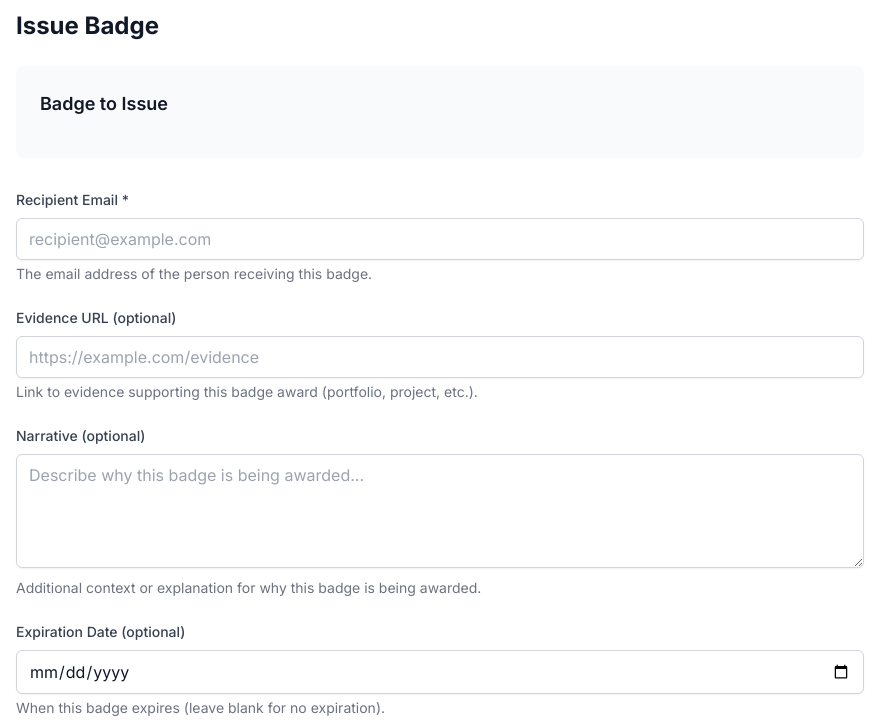
it: Badge Issuance Validation › should show validation error for invalid URL
Type "not-a-url" into the field with id "evidence-url". click: (440, 357)
box: [16,336,864,378]
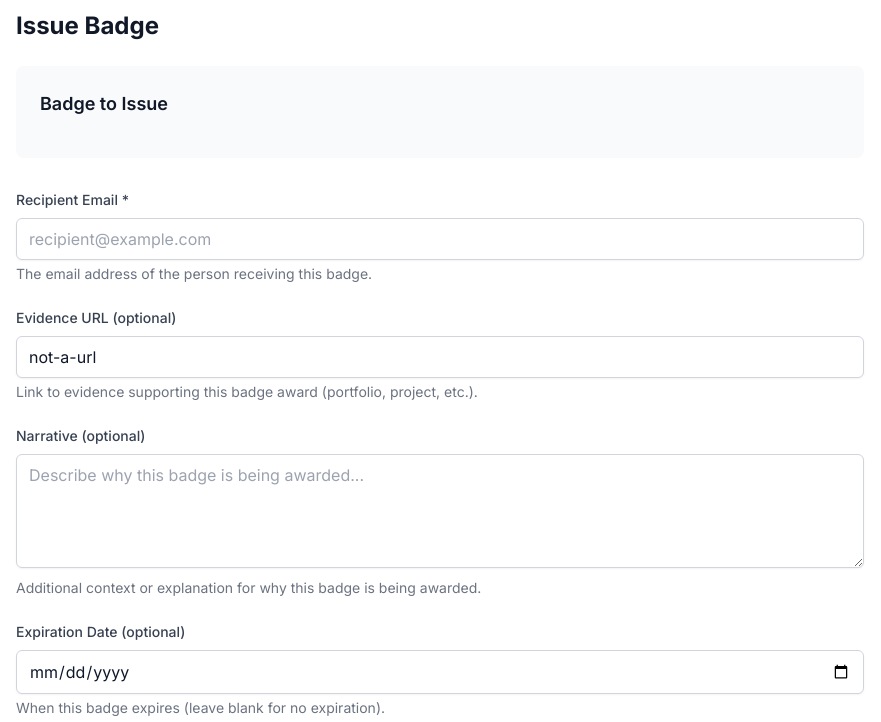
Leave the field with id "evidence-url", box [16,336,864,378]
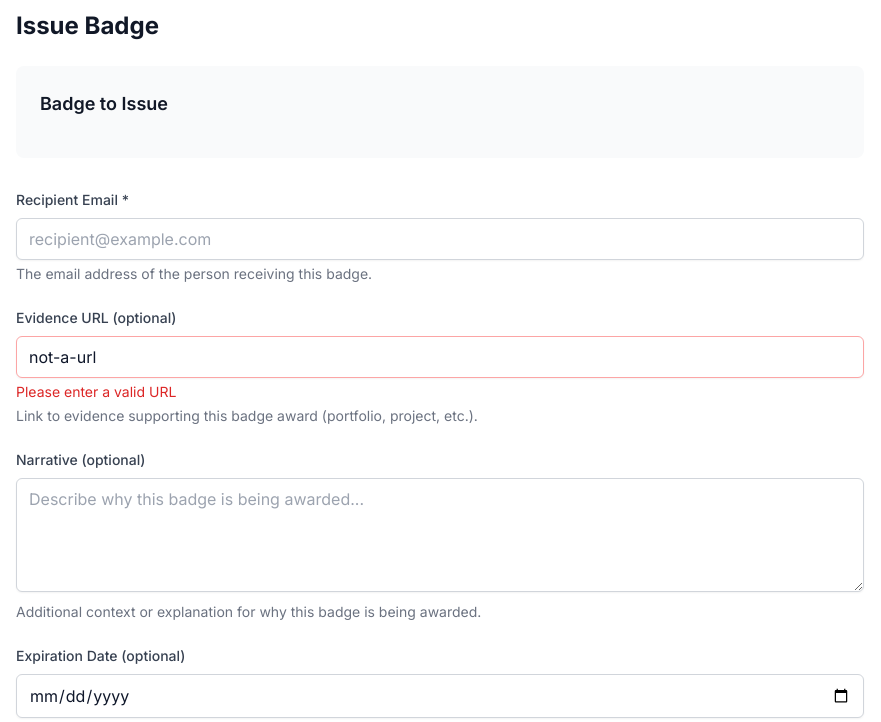
Result: the text with id "evidence-url-error" reads "Please enter a valid URL" at [16,383,176,400]
